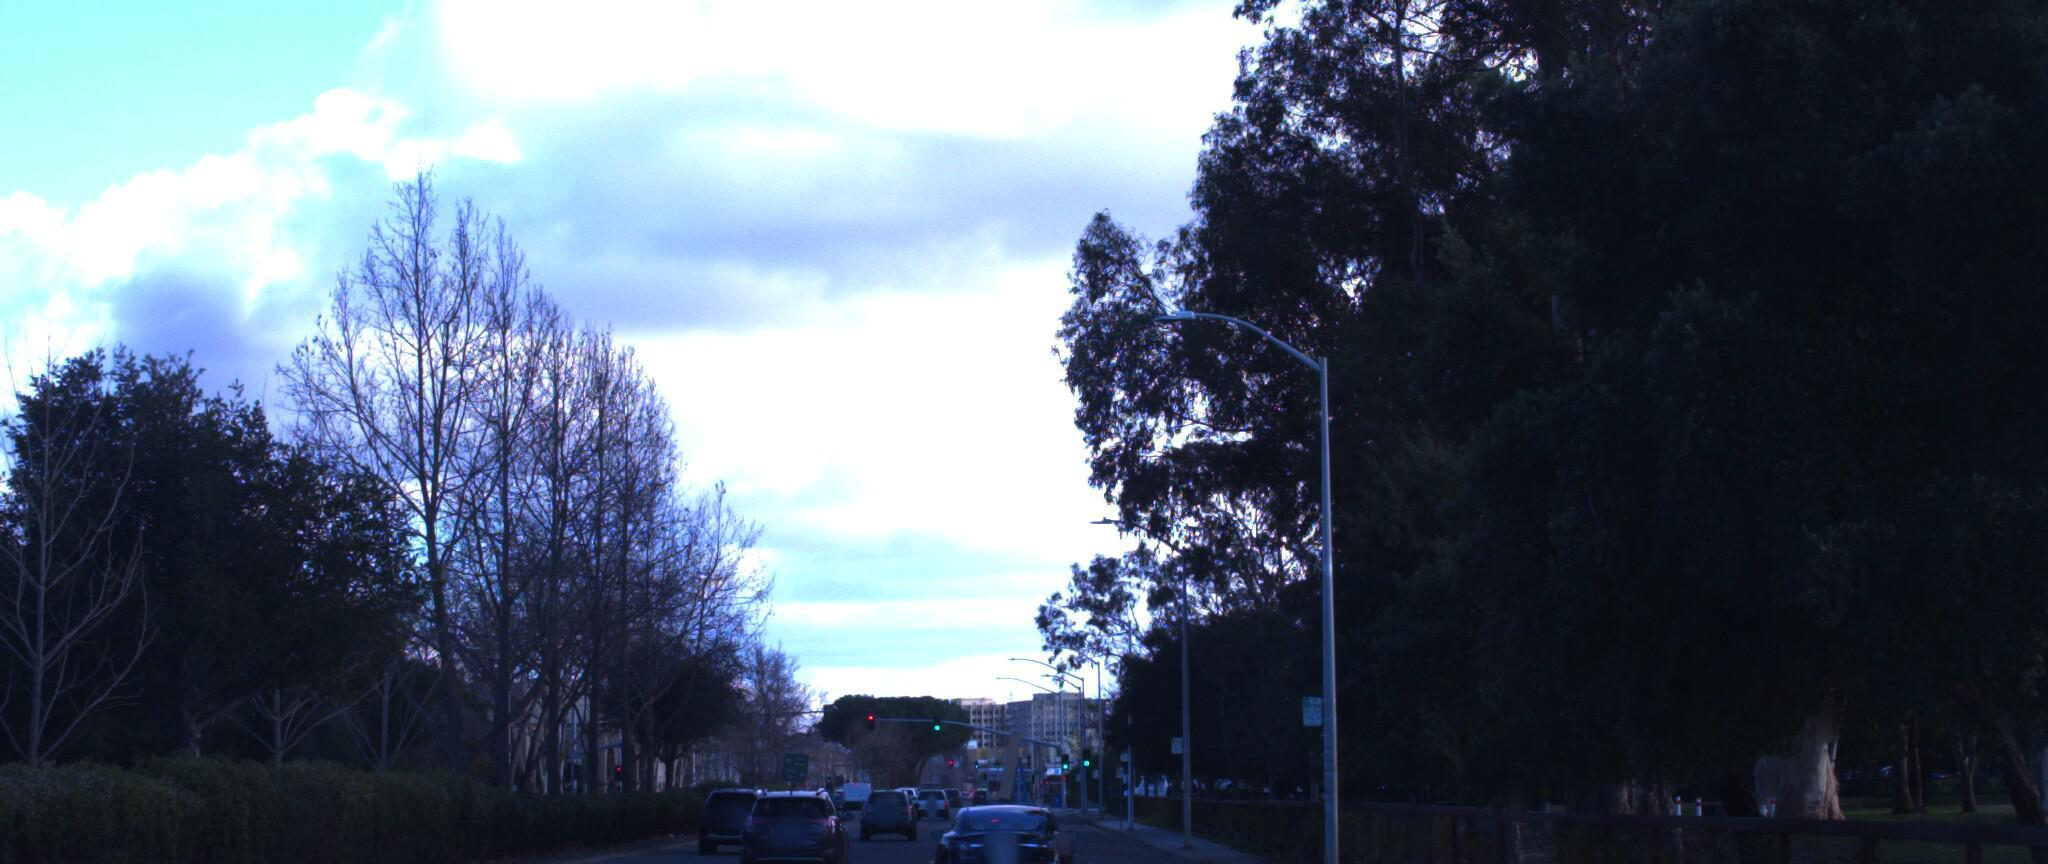car: (935, 779, 1071, 864), (728, 767, 841, 864), (703, 770, 786, 833)
